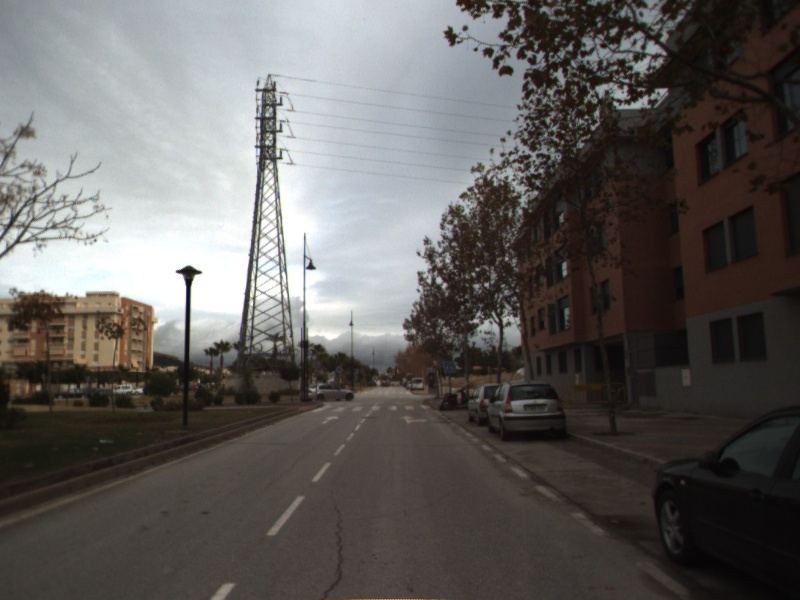STRAIGHT: (320, 413, 340, 426)
STRAIGHT_RIGHT: (399, 413, 429, 426)
